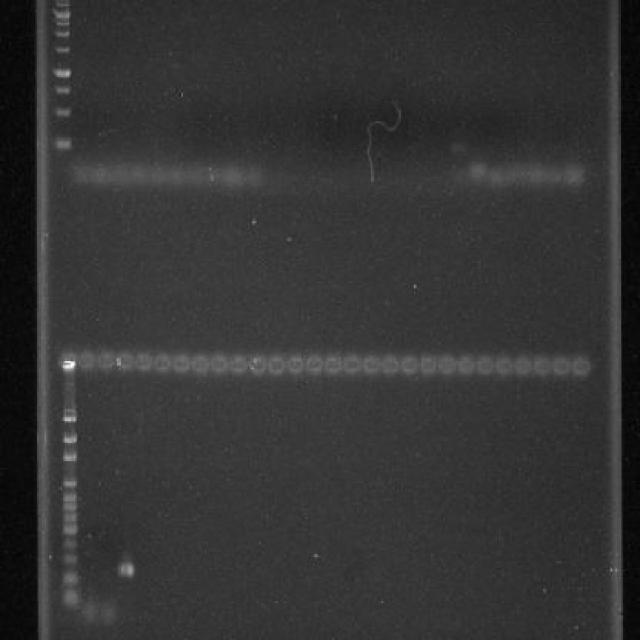B: (116, 560, 136, 578)
L: (55, 338, 597, 390)
M: (57, 378, 83, 622), (54, 0, 74, 158)
P: (58, 588, 80, 610), (59, 568, 79, 588), (60, 550, 78, 568), (54, 136, 72, 152), (60, 534, 77, 550), (54, 106, 72, 120), (62, 522, 78, 536), (62, 448, 78, 462), (62, 430, 78, 444), (54, 84, 72, 96), (62, 511, 78, 524), (62, 476, 78, 489), (61, 490, 78, 502), (54, 9, 72, 20), (54, 68, 72, 78), (62, 414, 78, 423), (54, 46, 71, 54), (62, 502, 78, 510), (54, 30, 70, 38), (55, 20, 71, 28), (63, 407, 77, 415), (55, 2, 71, 8)
Pc: (96, 347, 115, 375), (116, 348, 135, 376), (228, 349, 247, 377), (58, 348, 78, 374), (134, 350, 154, 376), (248, 349, 266, 377), (266, 352, 286, 376), (78, 346, 95, 374), (172, 352, 191, 377), (420, 352, 438, 378), (474, 354, 494, 377), (343, 352, 362, 376), (400, 352, 418, 377), (457, 352, 475, 377), (153, 350, 170, 376), (571, 355, 591, 377), (494, 356, 514, 378), (192, 352, 210, 376), (210, 352, 228, 376), (438, 352, 456, 376), (532, 354, 551, 376), (382, 350, 398, 376), (287, 352, 304, 376), (363, 352, 380, 376), (324, 354, 342, 376), (552, 354, 570, 376), (514, 354, 532, 376), (306, 352, 322, 376)
